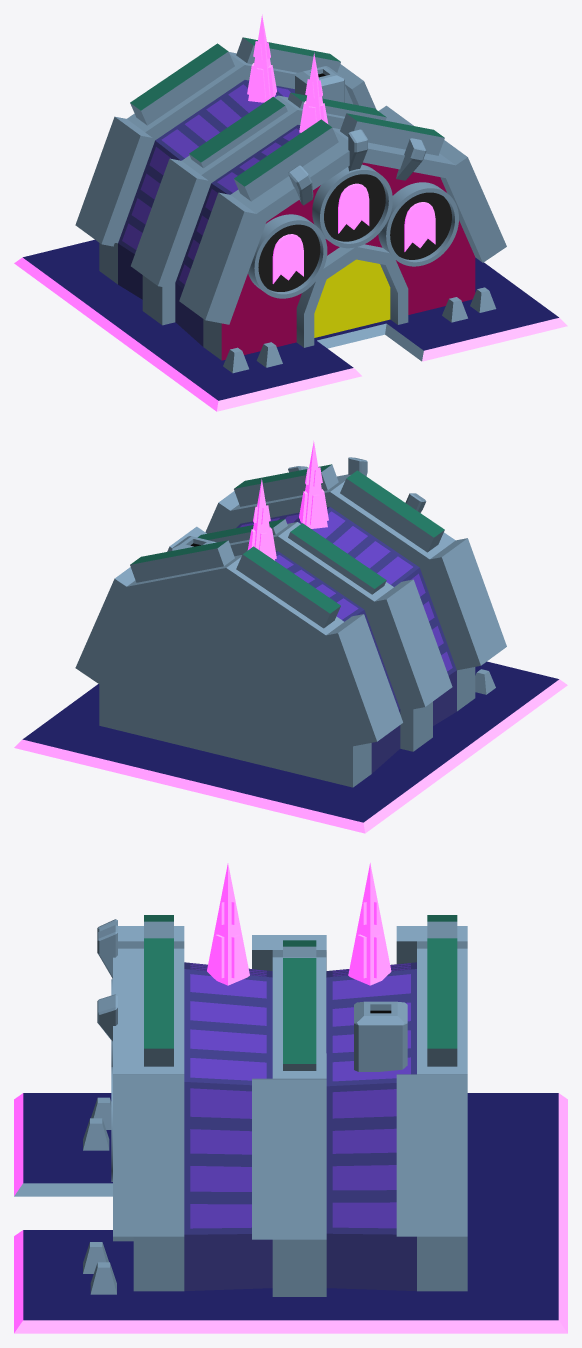
File: Lodge8.fbx
3 renders of one model, top to bottom at view 1: azimuth 30°, elevation 25°; view 2: azimuth 150°, elevation 25°; view 3: azimuth 270°, elevation 25°, orthographic. The views are drawn at different scales.
Visible parts, largest first — view 1: lodge8; view 2: lodge8; view 3: lodge8.
Boxes of the visible parts, box(x1,y1,x2,y2) form: lodge8: box(14, 14, 567, 411); lodge8: box(14, 441, 567, 833); lodge8: box(14, 863, 567, 1333).
Bounding box in the file's own units: 412 × 291 × 412.
